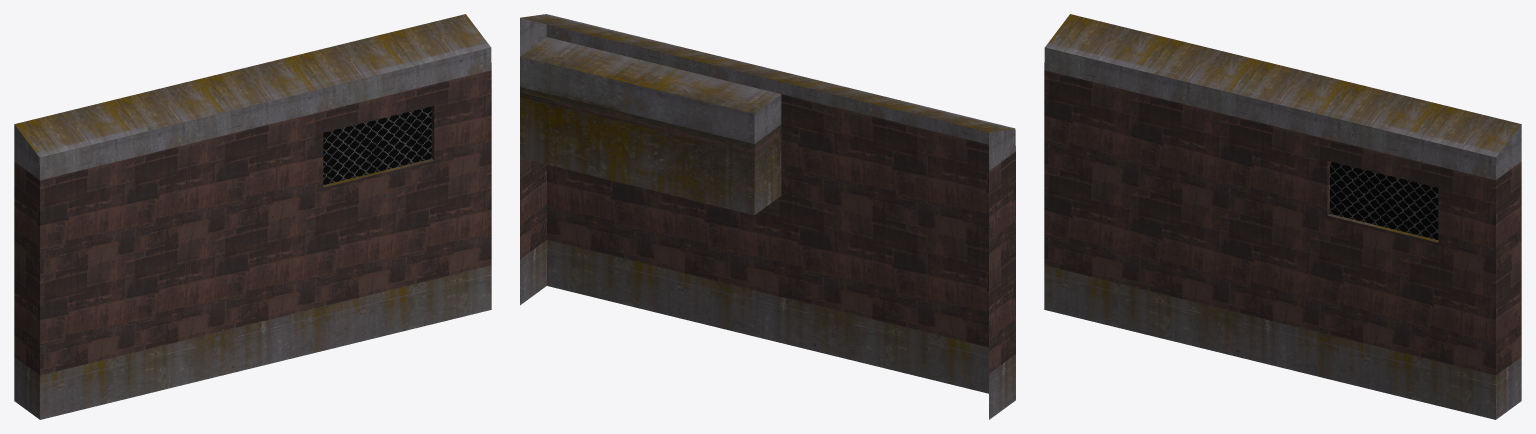
File: Wall B.fbx
3 renders of one model, left to right at view 1: azimuth 30°, elevation 25°; view 2: azimuth 150°, elevation 25°; view 3: azimuth 330°, elevation 25°, orthographic. The views are drawn at different scales.
Visible parts, largest first — view 1: Cube, Cube.060; view 2: Cube; view 3: Cube, Cube.060.
Boxes of the visible parts, left/top/right/bottom form: Cube: left=14, top=14, right=491, bottom=419; Cube.060: left=323, top=106, right=431, bottom=184; Cube: left=520, top=14, right=1015, bottom=419; Cube: left=1044, top=14, right=1521, bottom=419; Cube.060: left=1330, top=161, right=1438, bottom=239.
Bounding box in the file's own units: 2020 × 1184 × 200.
